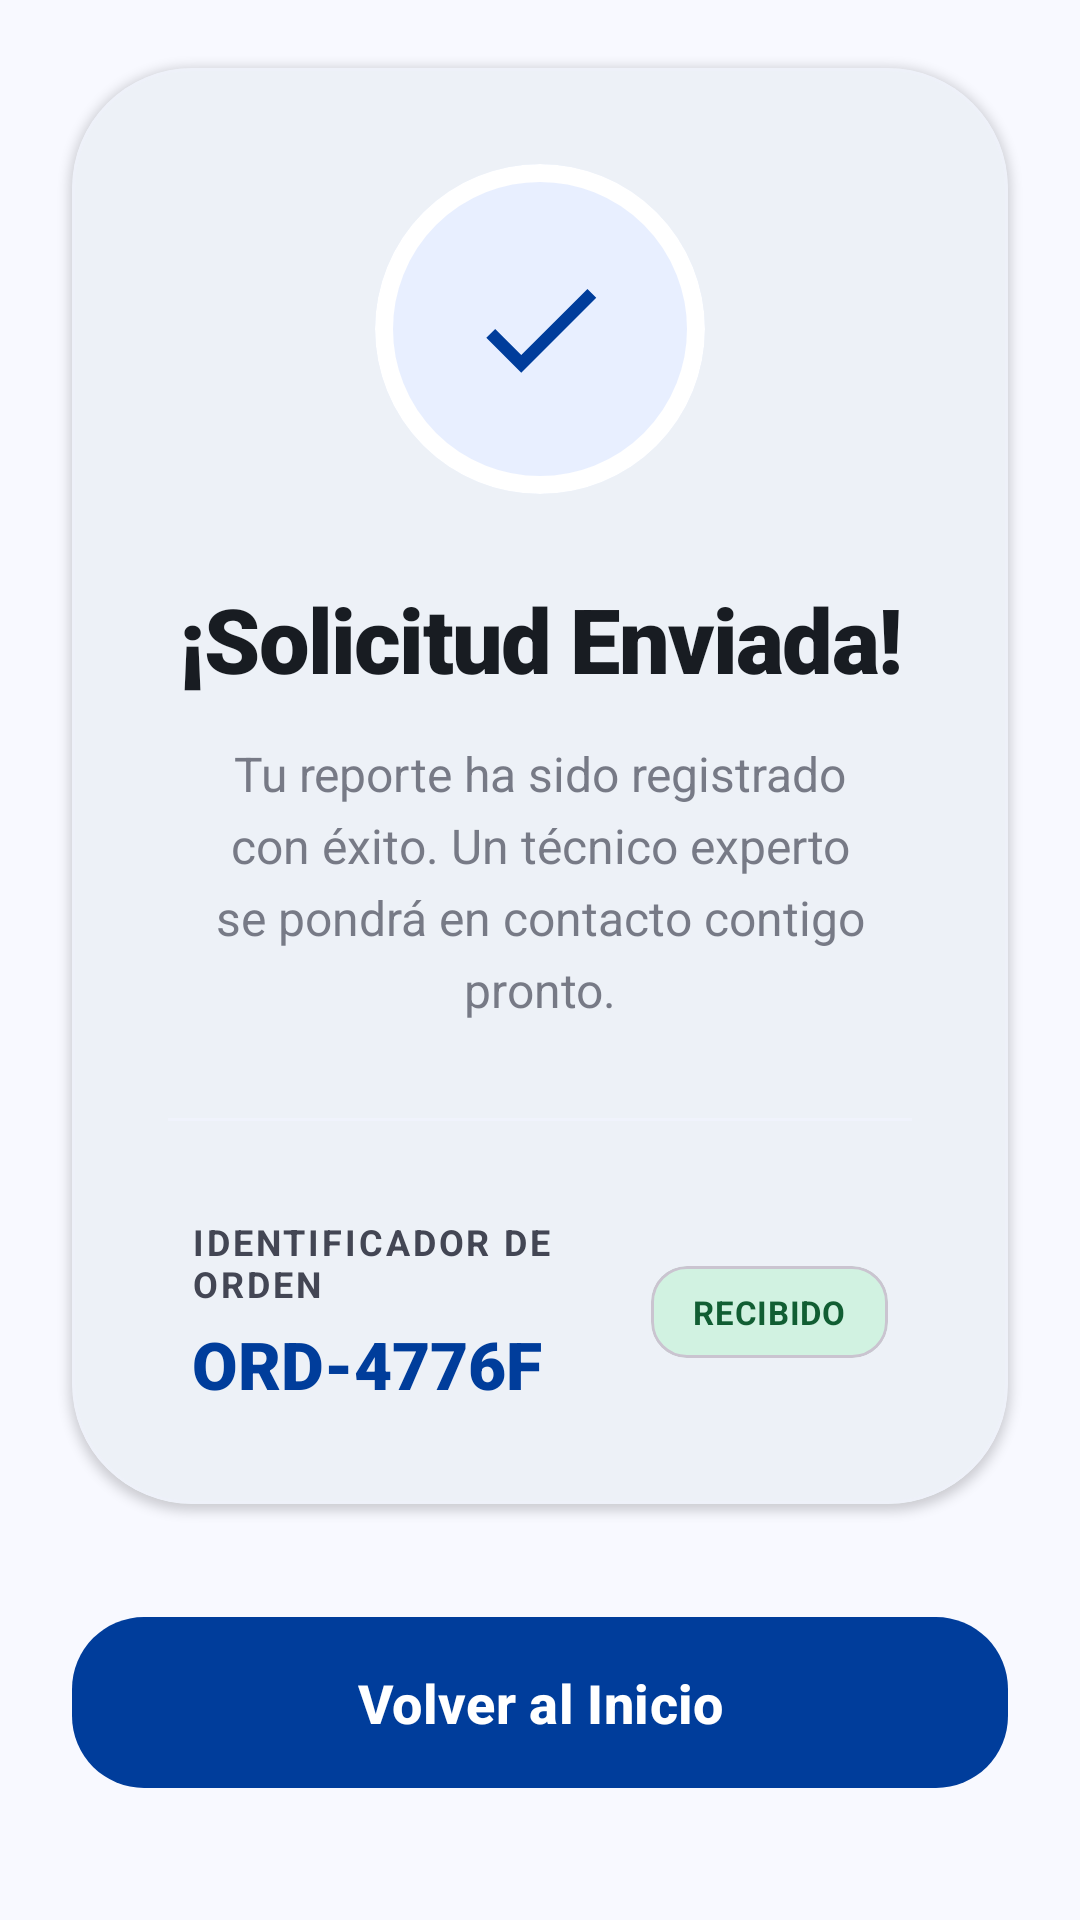

Screen size 1080 x 1920. Icon name, then its center in pixels as (x=x, y=y):
Check: (x=541, y=331)
